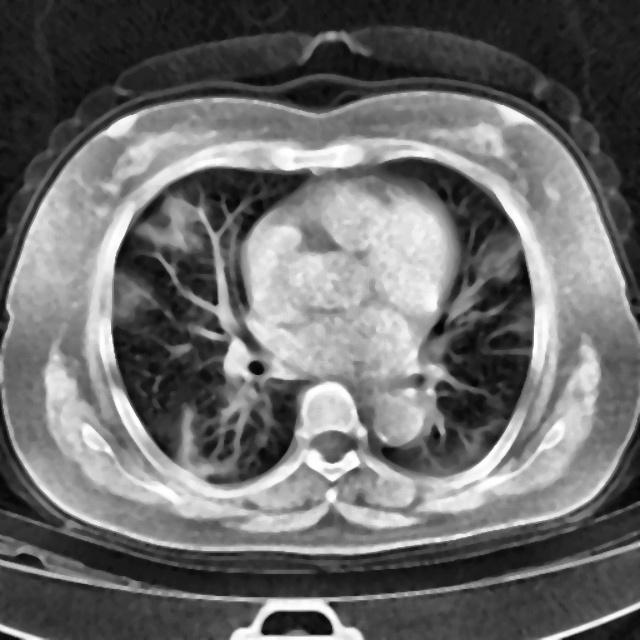covid: (1, 29, 638, 571)
